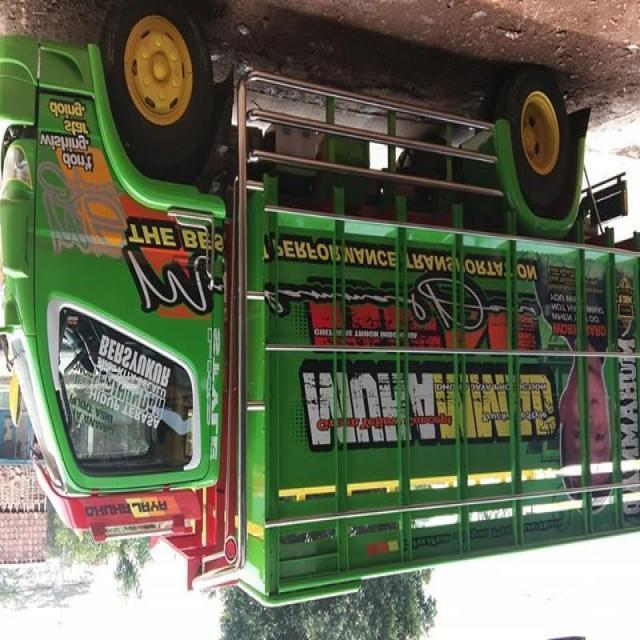truck: (0, 11, 639, 600)
